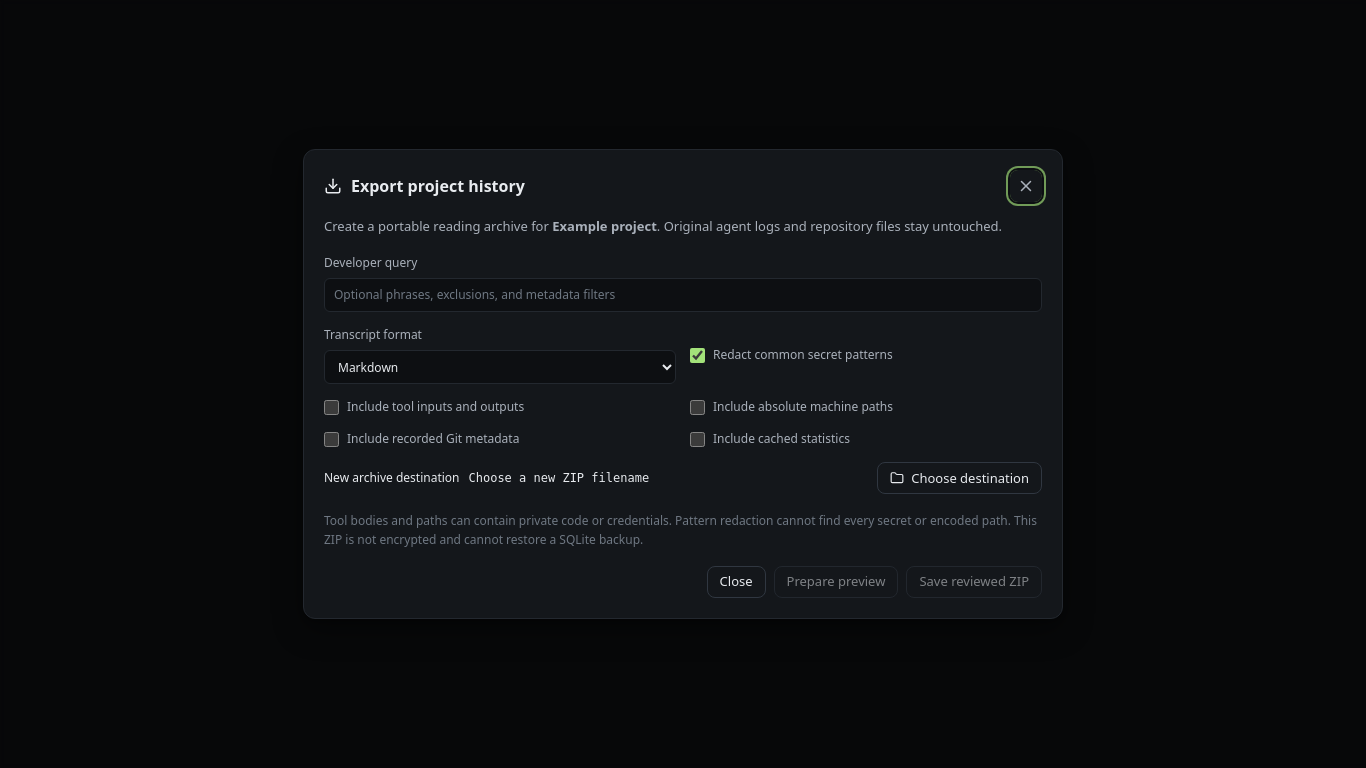
Scenario: changing options or query invalidates and releases the old reviewed plan
Click the button "Choose destination". click: coordinates (960, 478)
box: [877,462,1042,494]
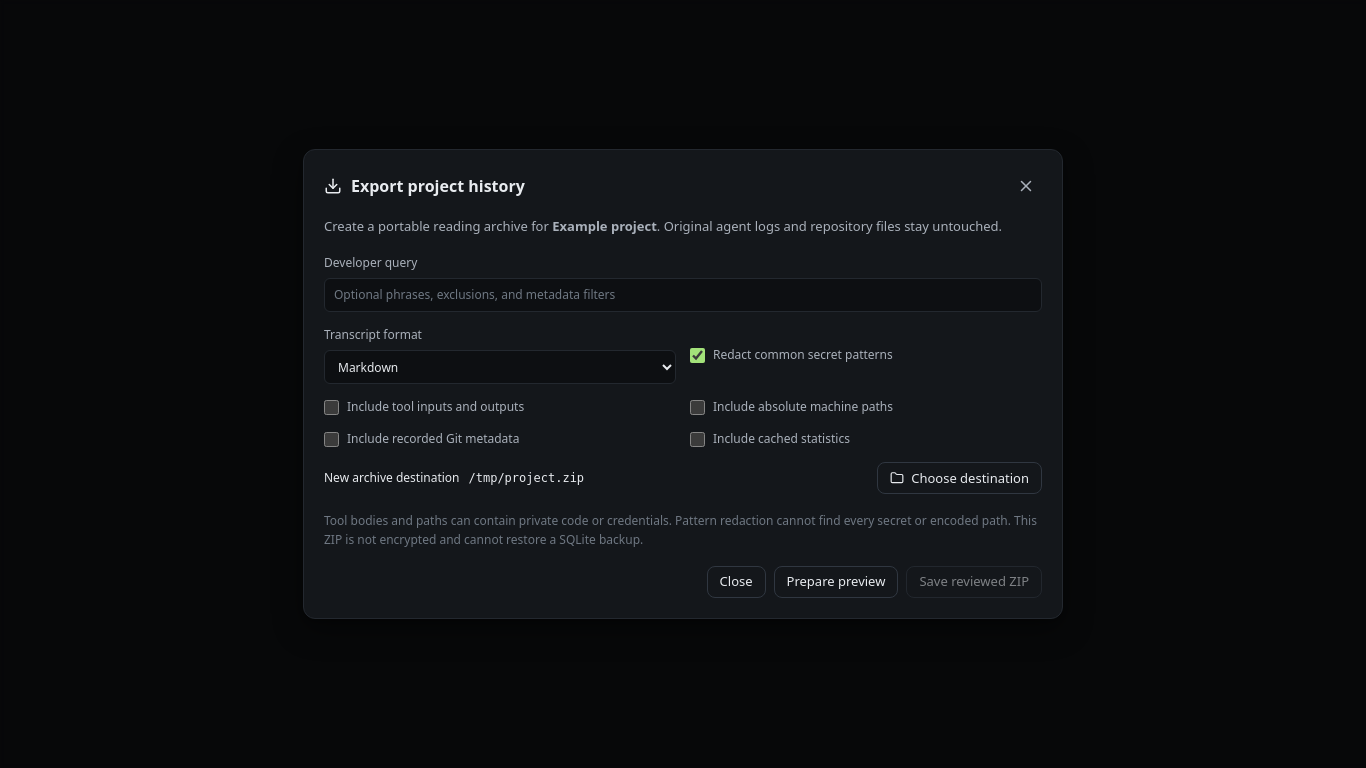
Click the button "Prepare preview". click: coordinates (836, 582)
box: [774,566,898,598]
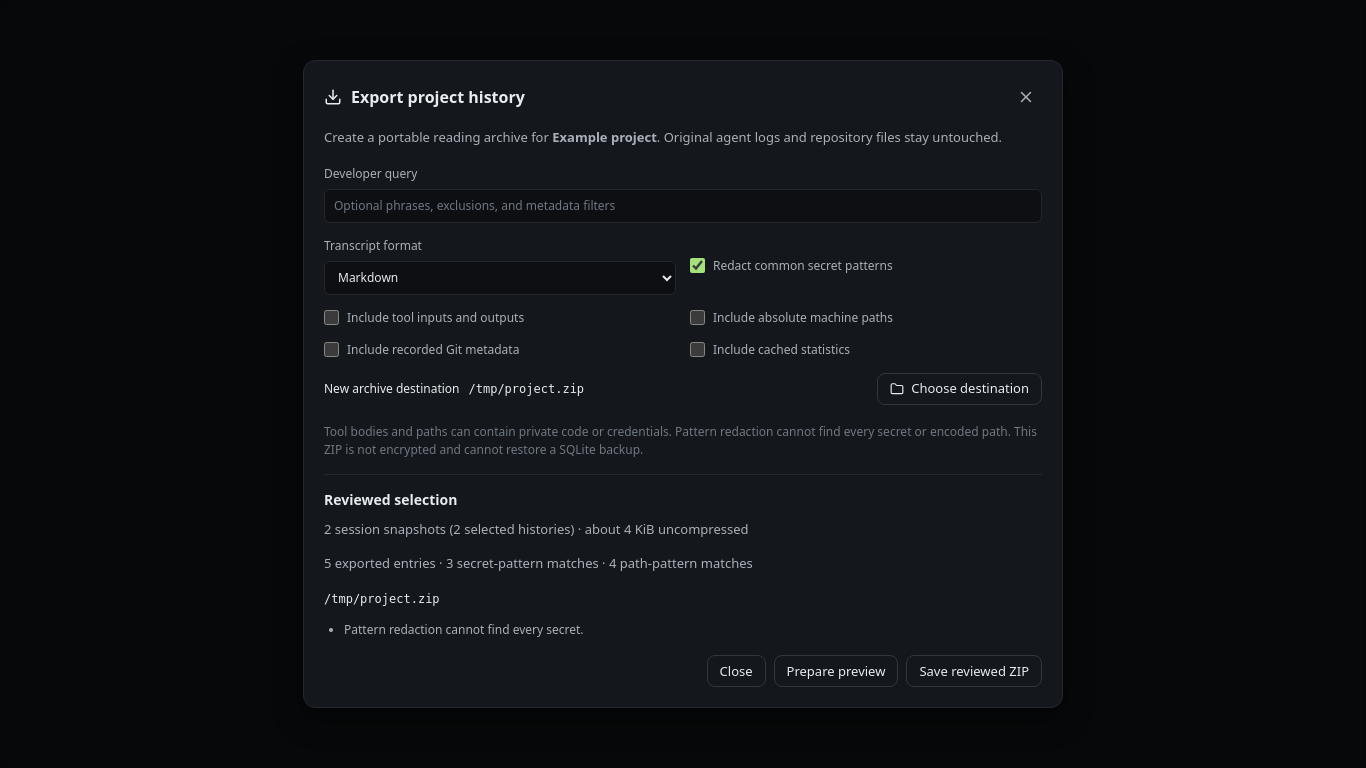
Expected: the heading "Reviewed selection" is shown, [324,490,457,509]
Click the checkbox labelled "Include tool inputs and outputs". click: coordinates (332, 318)
box: [324,310,339,325]
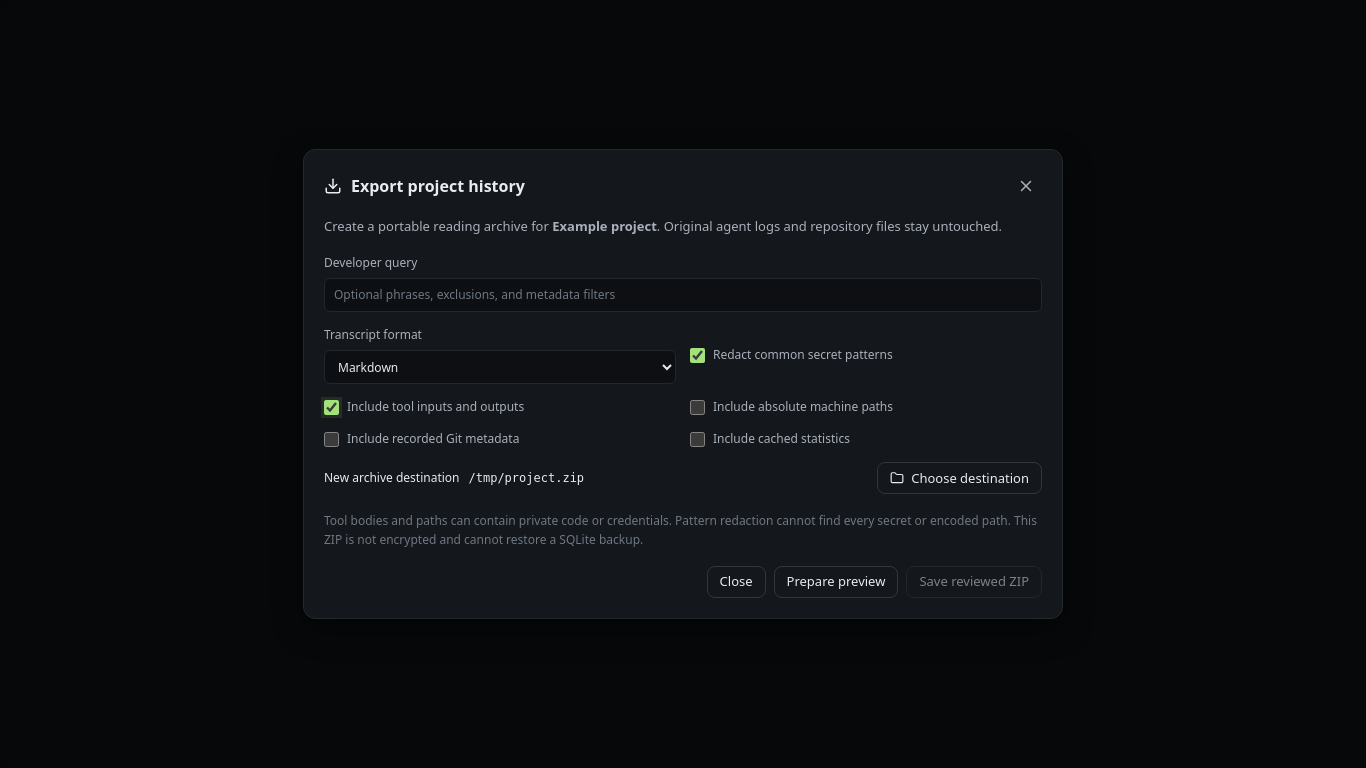
Expected: the button "Save reviewed ZIP" is disabled, [906,566,1042,598]
Expected: the heading "Reviewed selection" is gone
Type "tool:Write -secret" into the field labelled "Developer query". click: coordinates (683, 296)
box: [324,278,1042,312]
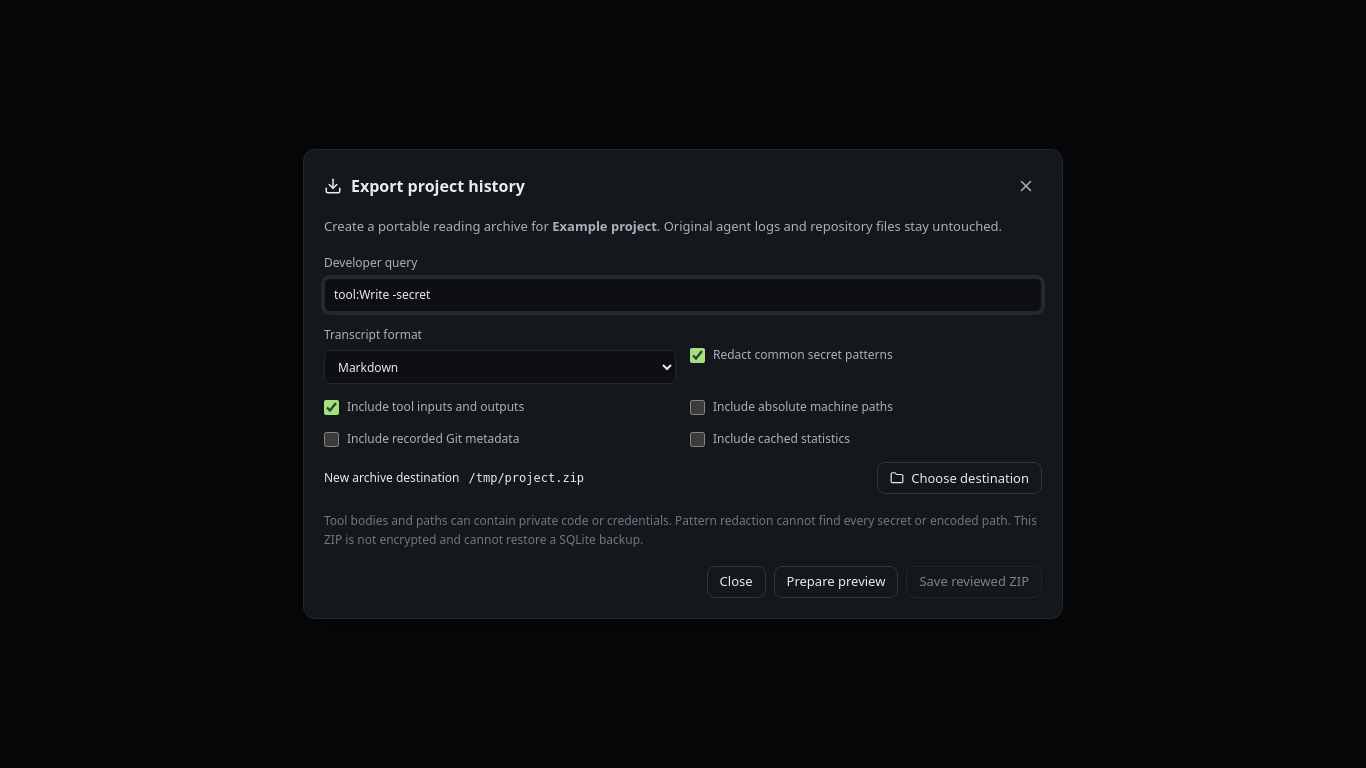
Click the button "Prepare preview". click: coordinates (836, 582)
box: [774,566,898,598]
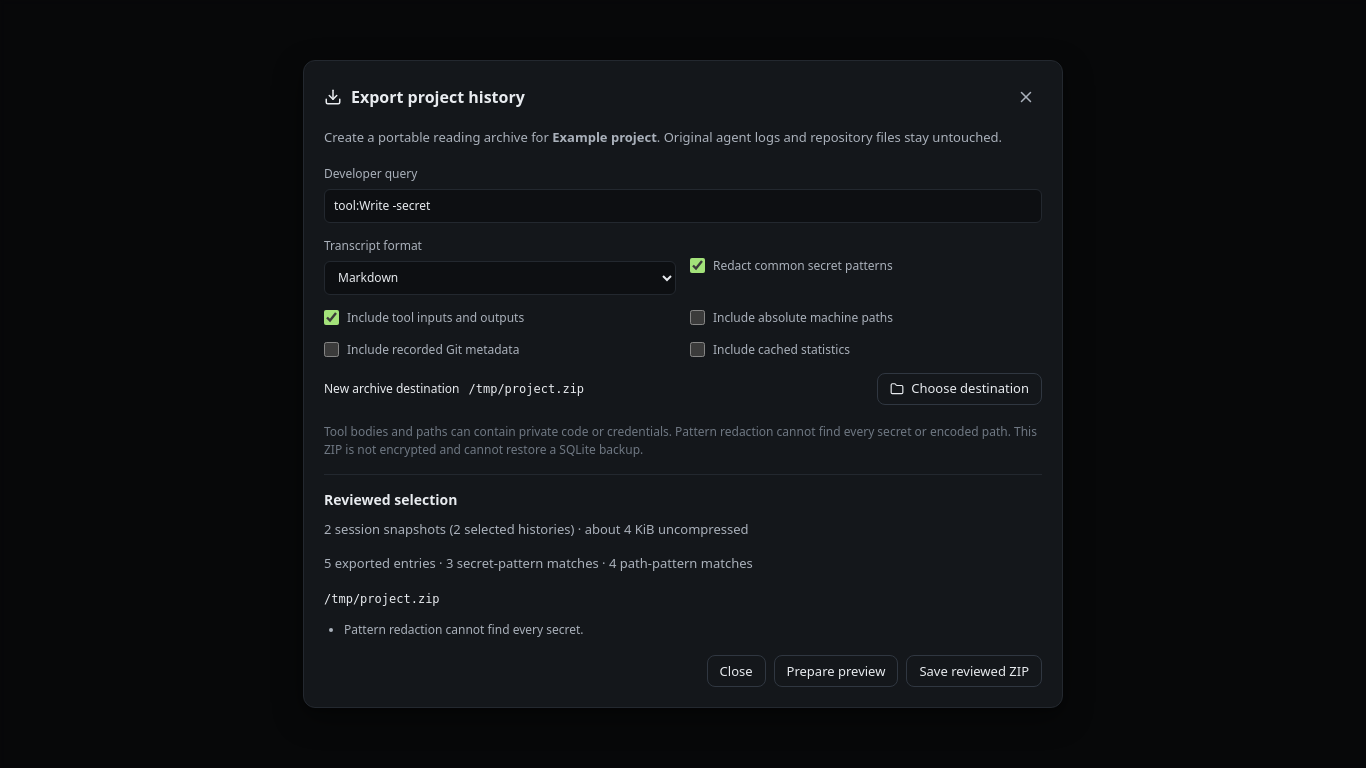
Expected: the heading "Reviewed selection" is shown, [324,490,457,509]
